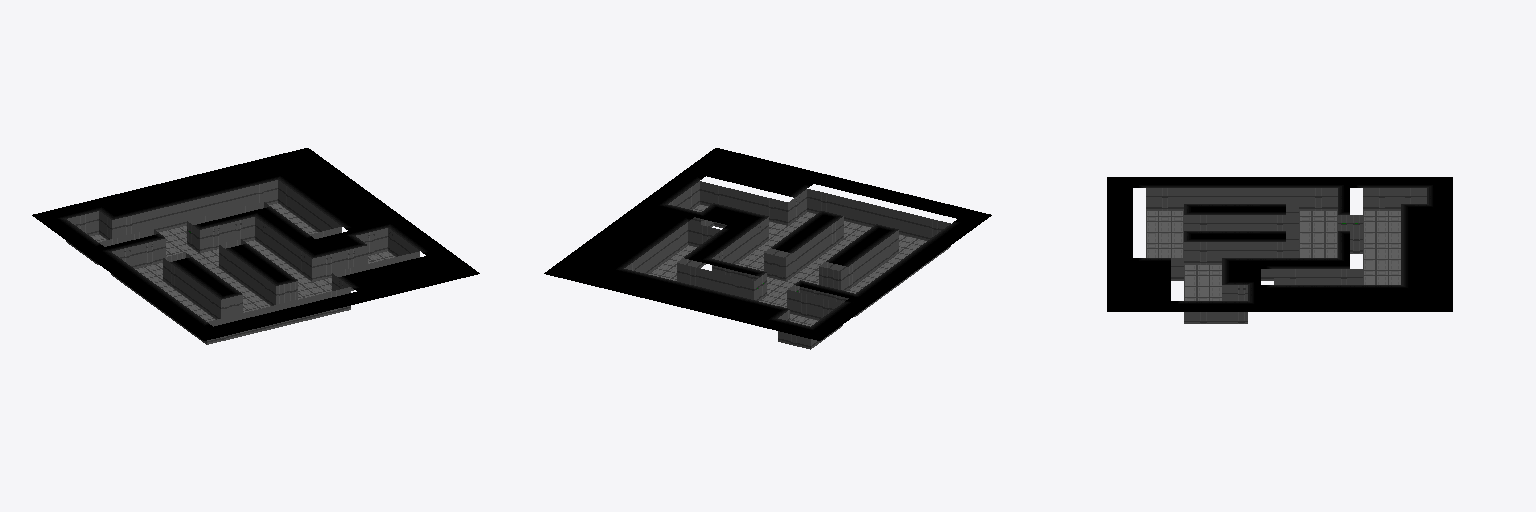
3 views of the same model, side by side, from view 1: azimuth 30°, elevation 25°; view 2: azimuth 150°, elevation 25°; view 3: azimuth 270°, elevation 25° (orthographic).
Parts seen in each view (by area): view 1: Default; view 2: Default; view 3: Default.
Part boxes in pixels (left/top/right/bottom): Default: left=32, top=148, right=479, bottom=344; Default: left=544, top=148, right=991, bottom=349; Default: left=1107, top=177, right=1452, bottom=323.
Bounding box in the file's own units: 25 × 2 × 27.
1 materials, 1 textured.